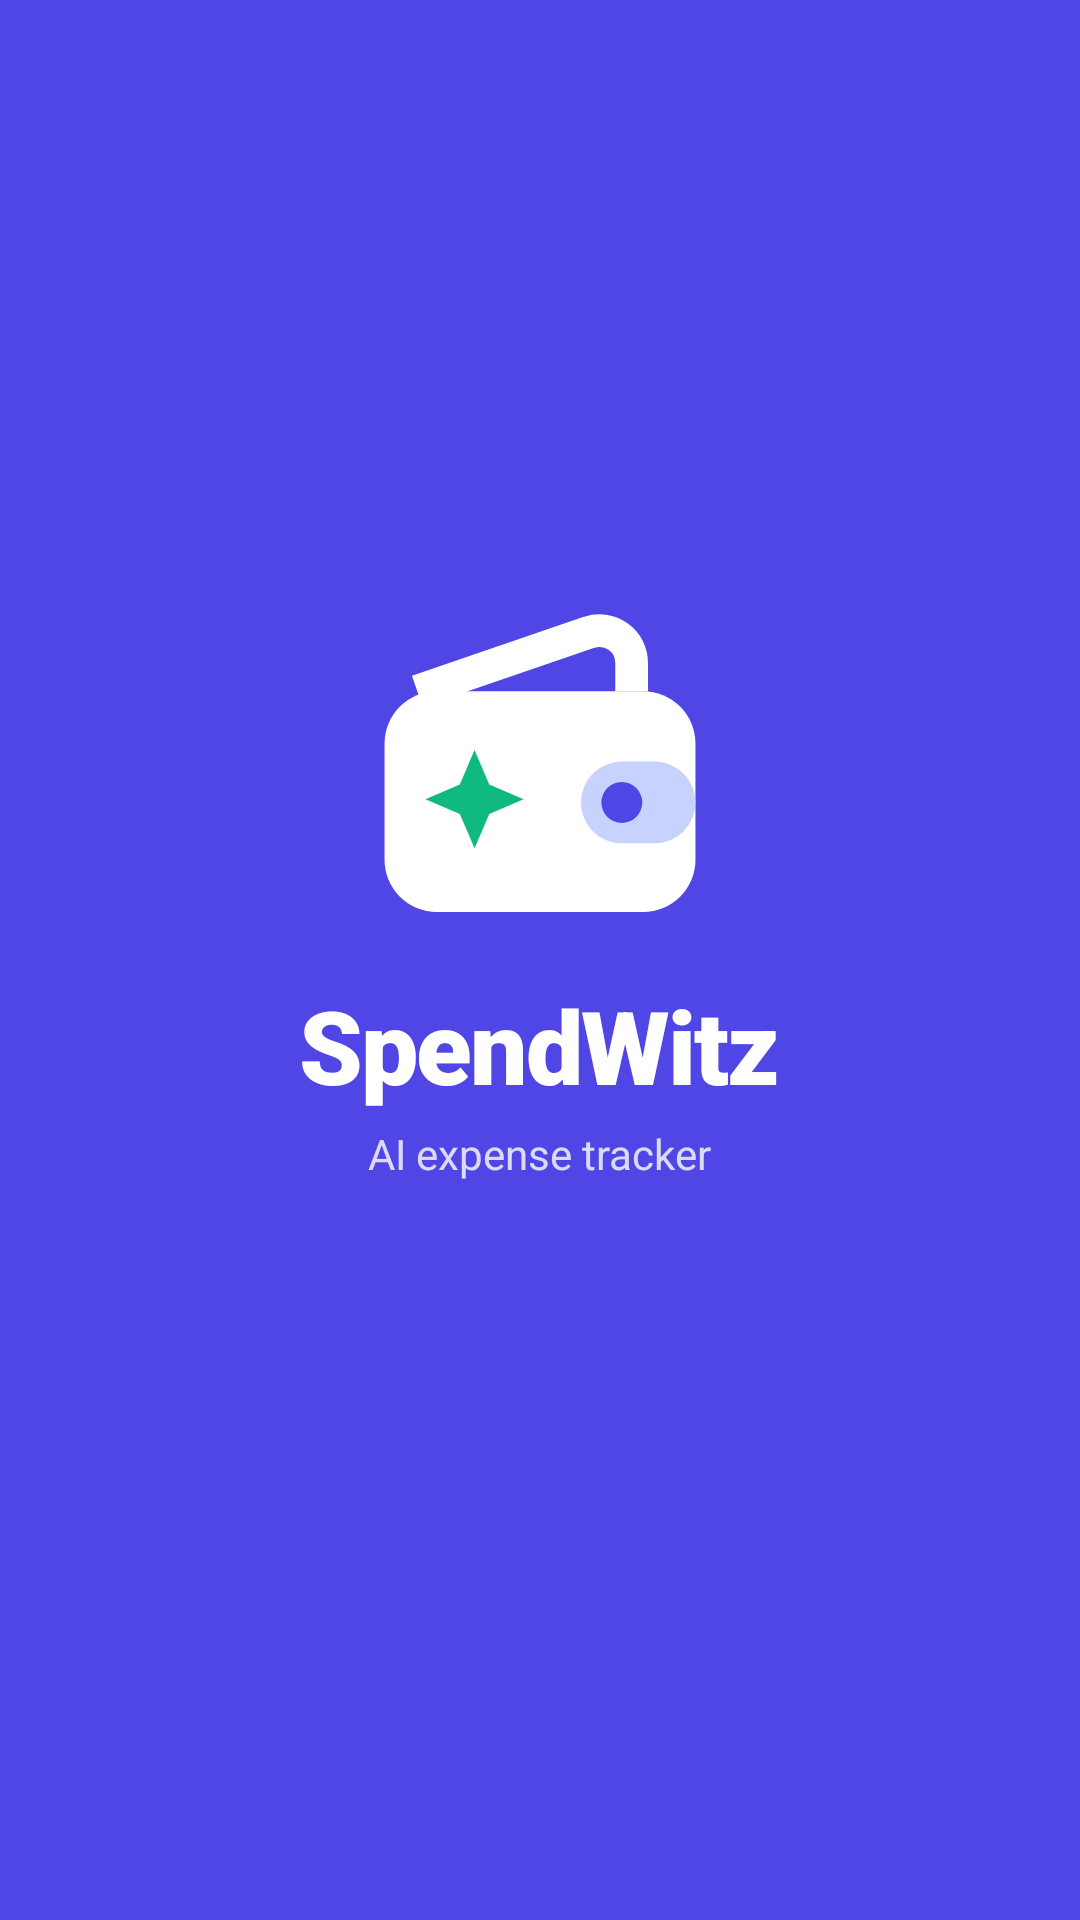

Icons on this 1080x1920 Android screen, each with its box as [x1,y1,x2,y2]:
intro wallet: [384,614,696,912]
